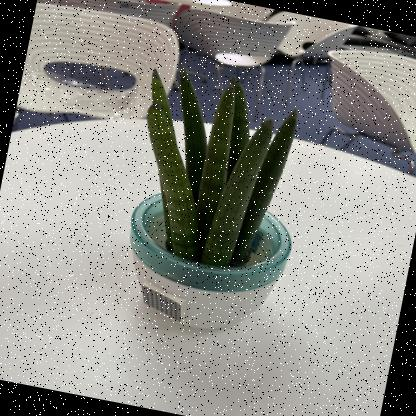Spear: (121, 57, 305, 217)
